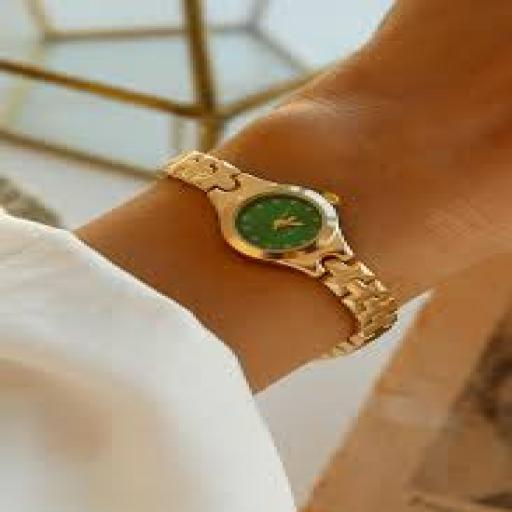KolSaati: (136, 139, 434, 363)
